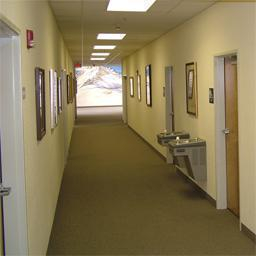Lavamanos: (171, 136, 208, 188), (155, 127, 197, 139)
Puerta: (222, 56, 241, 217)
